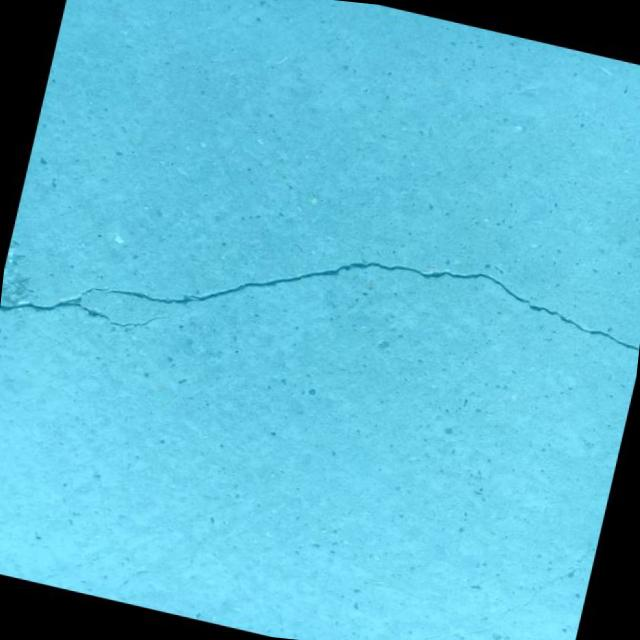crack: (0, 166, 640, 455)
